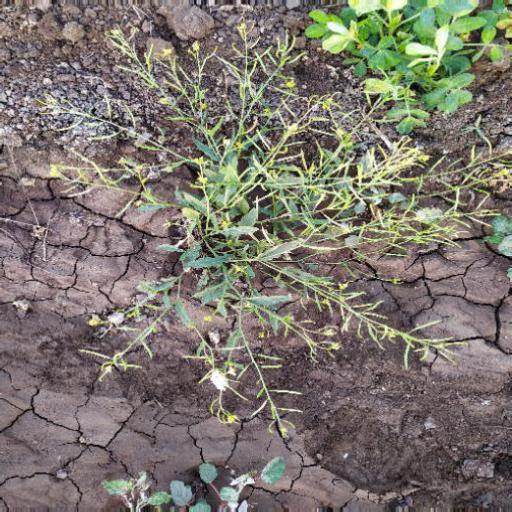weed: (81, 76, 416, 435), (287, 3, 507, 120)
